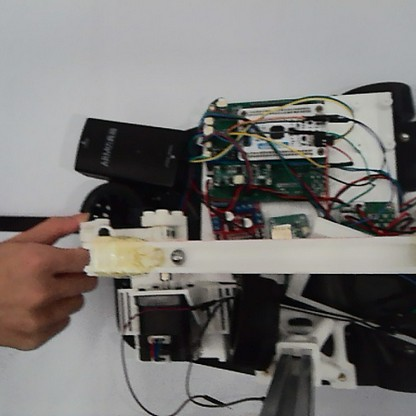ironball: (169, 246, 186, 264)
